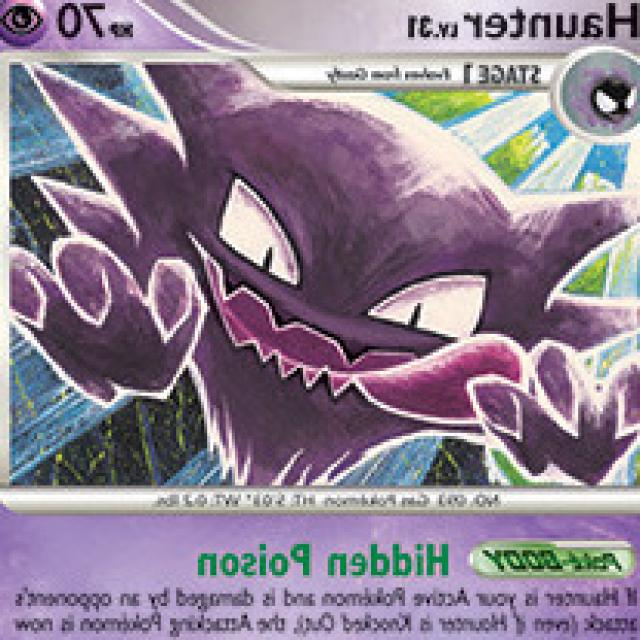Haunter: (0, 86, 635, 509)
